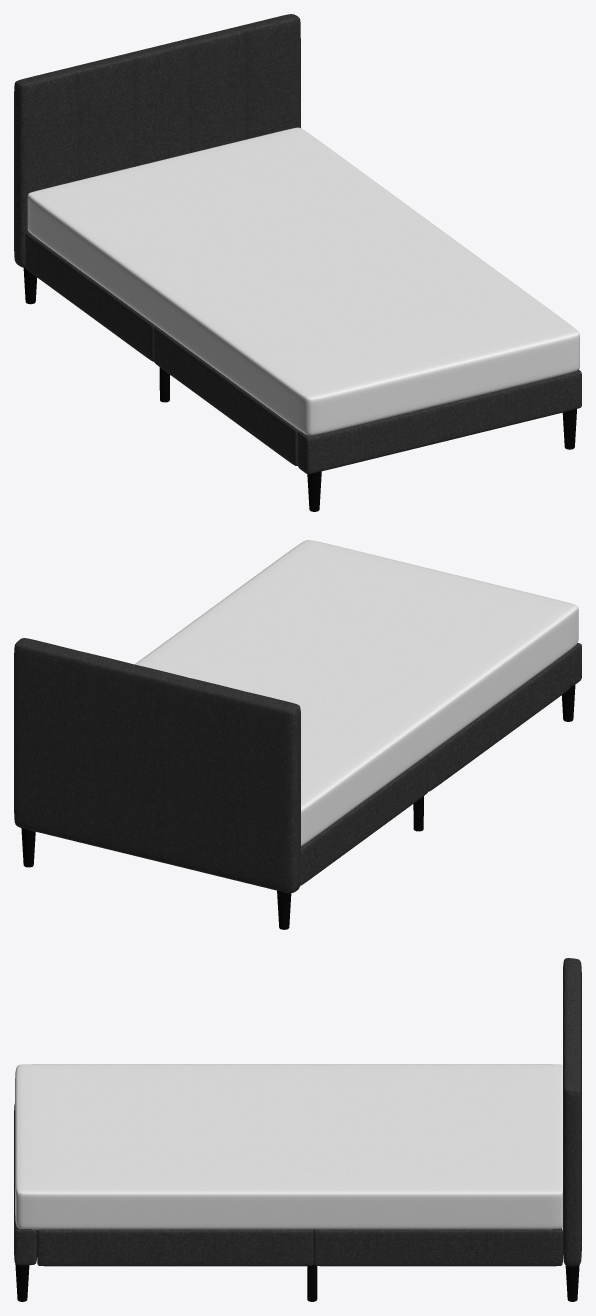
File: bed_19_02.fbx
3 renders of one model, top to bottom at view 1: azimuth 30°, elevation 25°; view 2: azimuth 150°, elevation 25°; view 3: azimuth 270°, elevation 25°, orthographic. The views are drawn at different scales.
Parts seen in each view (by area): view 1: bed_19_02.001; view 2: bed_19_02.001; view 3: bed_19_02.001.
Boxes of the visible parts, x1,y1,x2,y2 form: bed_19_02.001: (14, 14, 581, 511); bed_19_02.001: (14, 540, 581, 929); bed_19_02.001: (14, 958, 581, 1301).
Size of the model in its own units: 118 by 89.07 by 212.
Materials: 1 (1 with a texture image).
